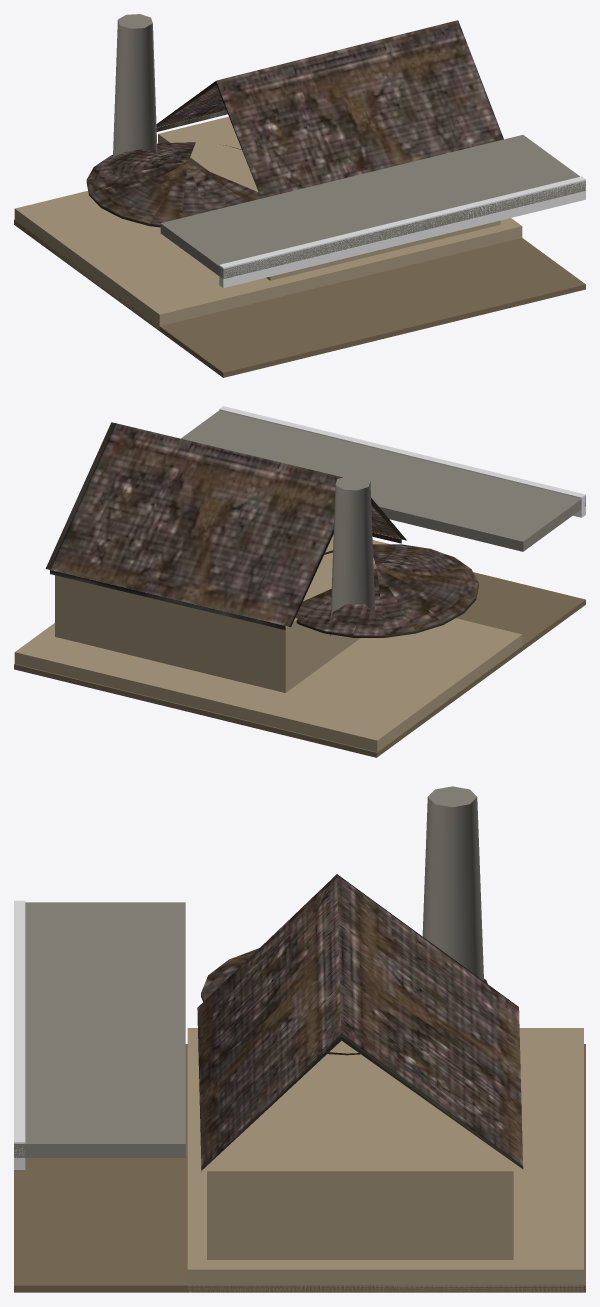
The picture shows the model from 3 angles, top to bottom: view 1: azimuth 30°, elevation 25°; view 2: azimuth 150°, elevation 25°; view 3: azimuth 270°, elevation 25°; orthographic projection. The views are drawn at different scales.
Visible parts, largest first — view 1: dweller_building_workshop; view 2: dweller_building_workshop; view 3: dweller_building_workshop.
Boxes of the visible parts, x1,y1,x2,y2 form: dweller_building_workshop: (14,14,585,377); dweller_building_workshop: (14,406,585,757); dweller_building_workshop: (14,786,585,1292).
Size of the model in its own units: 3 by 1.75 by 3.
Materials: 5 (1 with a texture image).
